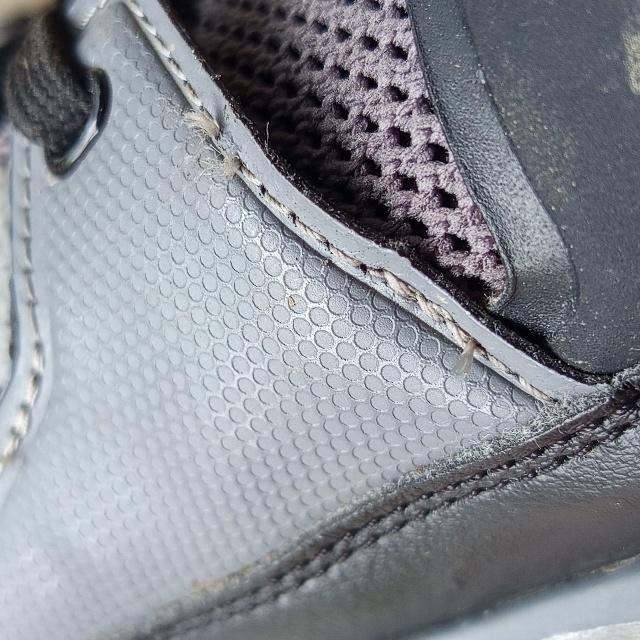broken-error: (177, 108, 258, 185)
